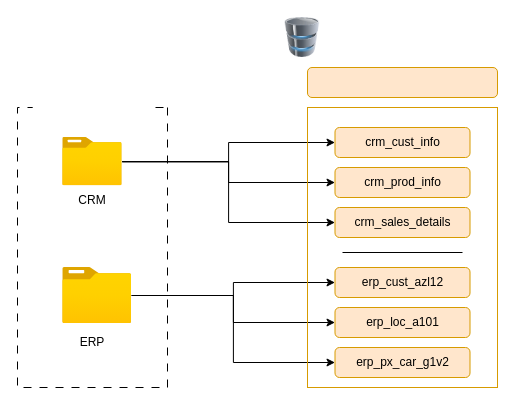
Image size: 515x405. Some labels were removed from this diagram. Here are the shapes that lost their labels. From the top down, the centre of each, then its label:
At pixel 402 82: "bronze".
At pixel 92 107: "sources".
